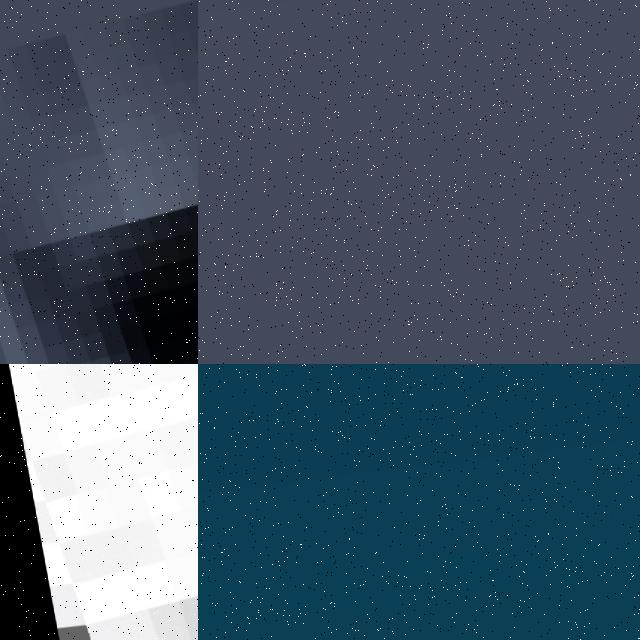drone: (0, 0, 198, 364), (0, 364, 198, 640)
